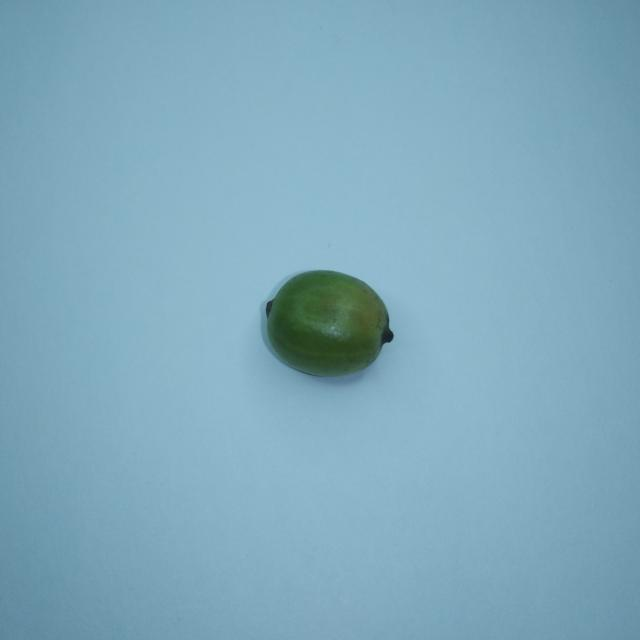Sano: (264, 271, 393, 376)
